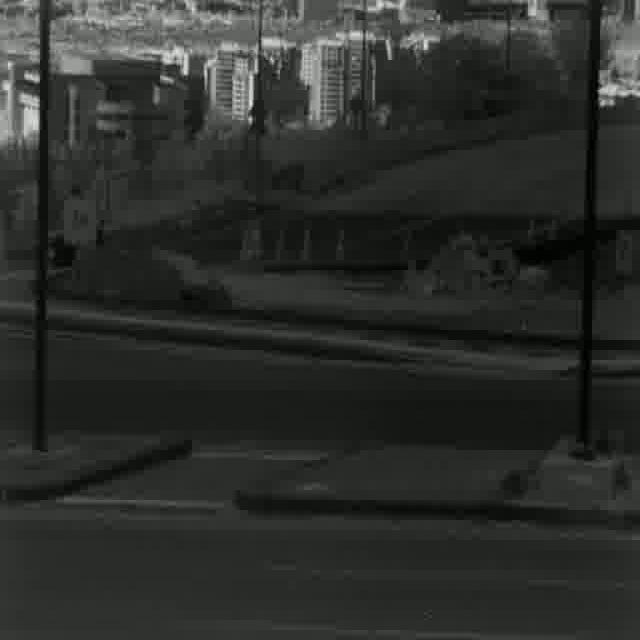Motorcycle: (51, 188, 104, 268)
